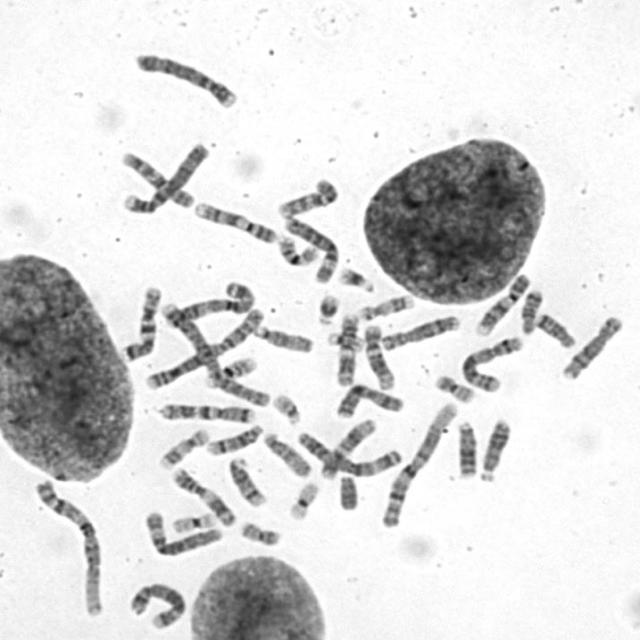A1: (30, 477, 110, 621), (379, 401, 457, 528)
A2: (158, 301, 271, 408), (143, 306, 264, 392)
A3: (294, 429, 404, 478), (168, 279, 256, 329)
B4: (128, 53, 244, 114), (123, 141, 215, 216)
B5: (461, 334, 524, 394), (124, 580, 188, 630)
C10: (115, 151, 197, 209), (273, 177, 340, 219)
C11: (168, 469, 237, 528), (336, 312, 360, 386)
C12: (318, 417, 378, 481), (364, 324, 396, 390)
C6: (280, 214, 341, 284), (144, 510, 225, 558)
C7: (120, 285, 163, 362), (160, 404, 256, 425)
C8: (561, 316, 623, 382), (380, 315, 461, 351)
C9: (193, 202, 278, 246), (474, 273, 531, 337)
D13: (478, 415, 512, 482), (455, 418, 477, 478)
D14: (224, 457, 269, 509), (205, 422, 265, 456)
D15: (261, 434, 313, 479), (251, 322, 314, 354)
E16: (205, 356, 258, 388), (275, 234, 320, 268)
E17: (157, 427, 210, 470), (359, 292, 417, 323)
E18: (534, 312, 576, 348), (520, 288, 544, 336)
F19: (287, 479, 322, 524), (169, 512, 217, 534)
F20: (237, 520, 283, 548), (435, 372, 475, 403)
G21: (334, 266, 376, 293), (314, 292, 342, 327)
G22: (270, 391, 302, 425), (325, 329, 365, 354)
X: (333, 382, 406, 423)
Y: (338, 474, 360, 512)
